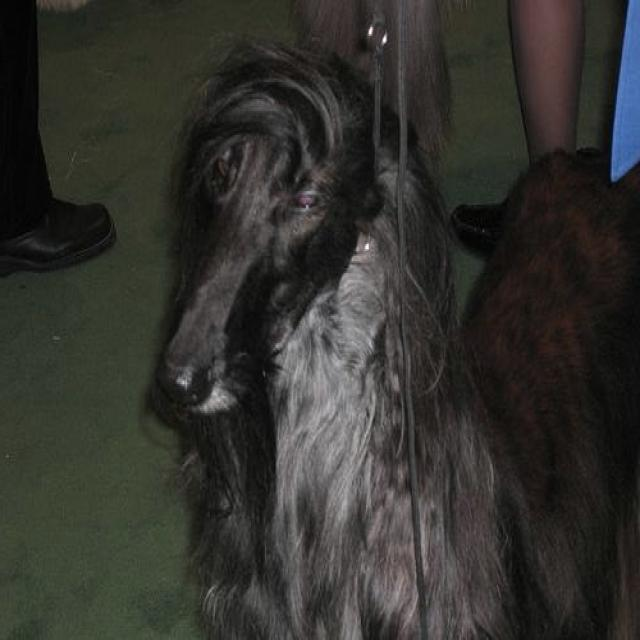afghan_hound: (159, 39, 640, 636)
